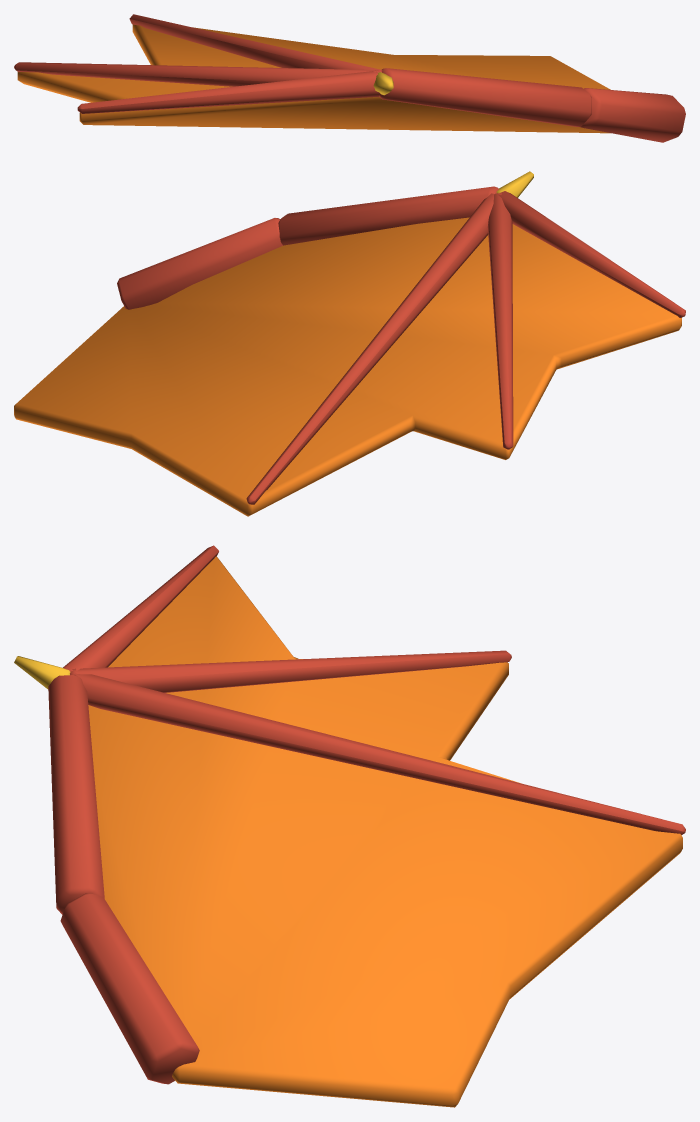
Rendered from X_MedDragonWingL.fbx.
The picture shows the model from 3 angles, top to bottom: view 1: azimuth 30°, elevation 25°; view 2: azimuth 150°, elevation 25°; view 3: azimuth 270°, elevation 25°; orthographic projection. The views are drawn at different scales.
Visible parts, largest first — view 1: M_DragonWingL; view 2: M_DragonWingL; view 3: M_DragonWingL.
Boxes of the visible parts, left/top/right/bottom form: M_DragonWingL: left=14, top=14, right=685, bottom=142; M_DragonWingL: left=14, top=171, right=685, bottom=516; M_DragonWingL: left=14, top=545, right=685, bottom=1107.
Size of the model in its own units: 3.05 by 0.9975 by 2.45.
1 material, 1 textured.
